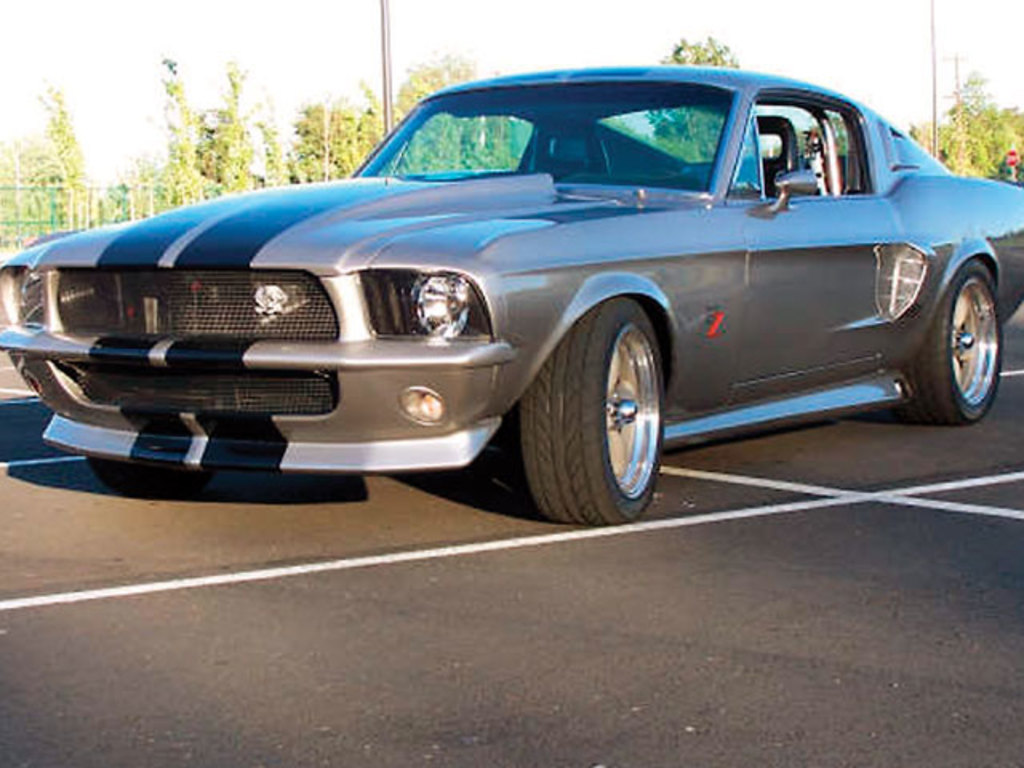Car: (0, 59, 1022, 531)
